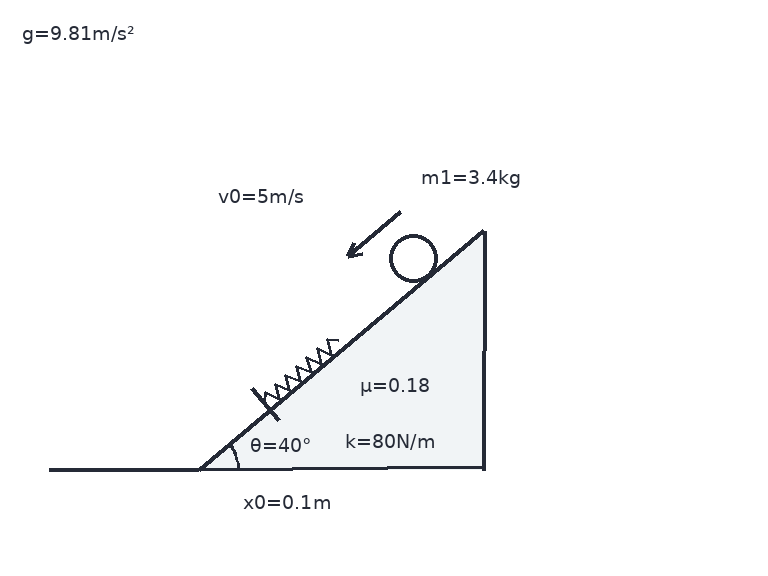ball: (387, 232, 439, 284)
ramp: (196, 228, 485, 471)
spring: (261, 337, 340, 404)
